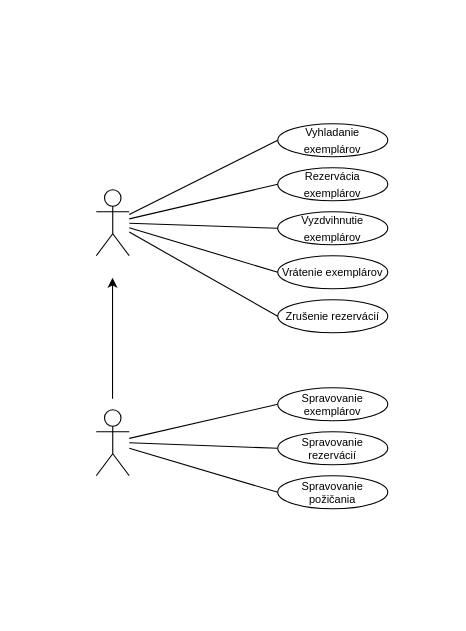
The diagram is 466 pixels wide and 631 high, and some of its shapes have lost their labels. Here are the shapes that lost their labels. From the top down, the centre of each, then its label:
At pixel 112 222: "Čitateľ".
At pixel 112 442: "Pracovník".
